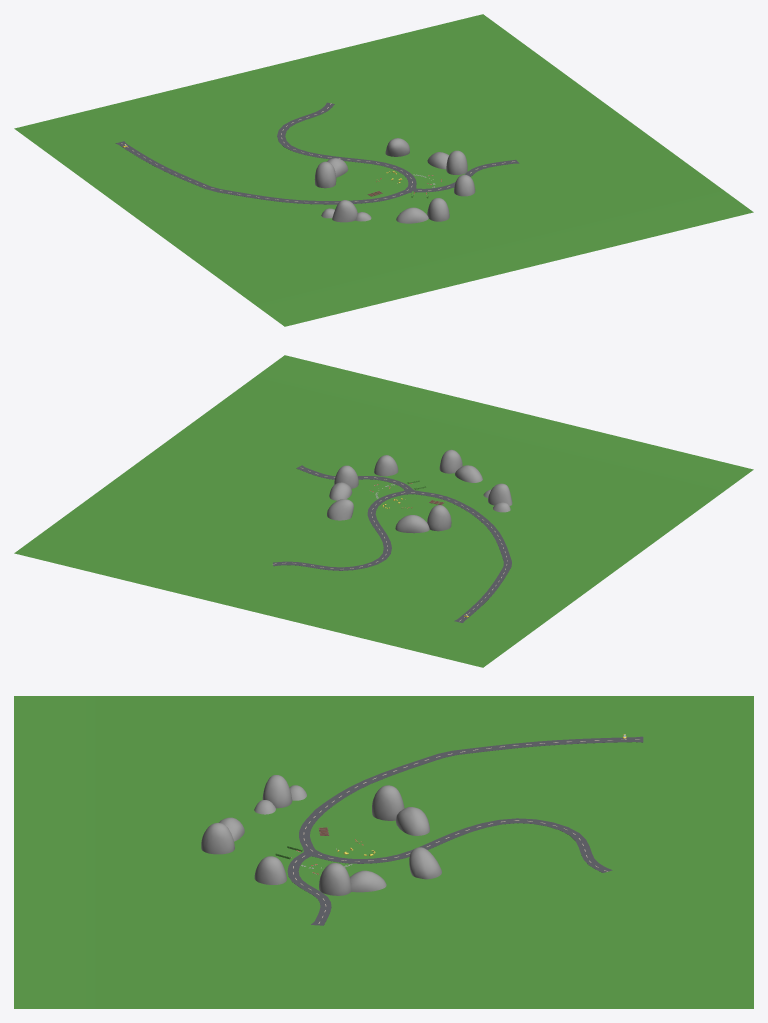
The picture shows the model from 3 angles, top to bottom: view 1: azimuth 30°, elevation 25°; view 2: azimuth 150°, elevation 25°; view 3: azimuth 270°, elevation 25°; orthographic projection. The views are drawn at different scales.
Parts seen in each view (by area): view 1: ground, Firma_Halle.002; view 2: ground, Firma_Halle.002, SmallRock6_3; view 3: ground, Firma_Halle.002, SmallRock6_3, SmallRock6_3.003, SmallRock6_3.002, SmallRock5_8.003, SmallRock5_8, SmallRock6_3.001, SmallRock5_8.004, SmallRock5_8.002.
Boxes of the visible parts, bbox=[...] form: ground: bbox=[14, 14, 753, 326]; Firma_Halle.002: bbox=[115, 102, 519, 204]; ground: bbox=[14, 355, 753, 667]; Firma_Halle.002: bbox=[272, 465, 511, 622]; SmallRock6_3: bbox=[427, 505, 451, 531]; ground: bbox=[14, 696, 753, 1008]; Firma_Halle.002: bbox=[287, 736, 643, 925]; SmallRock6_3: bbox=[372, 785, 404, 820]; SmallRock6_3.003: bbox=[319, 863, 351, 895]; SmallRock6_3.002: bbox=[201, 823, 234, 854]; SmallRock5_8.003: bbox=[409, 847, 441, 879]; SmallRock5_8: bbox=[396, 807, 429, 835]; SmallRock6_3.001: bbox=[254, 856, 286, 884]; SmallRock5_8.004: bbox=[262, 775, 292, 808]; SmallRock5_8.002: bbox=[350, 870, 386, 892].
Size of the model in its own units: 175 by 9.86 by 175.
2 materials, 2 textured.
